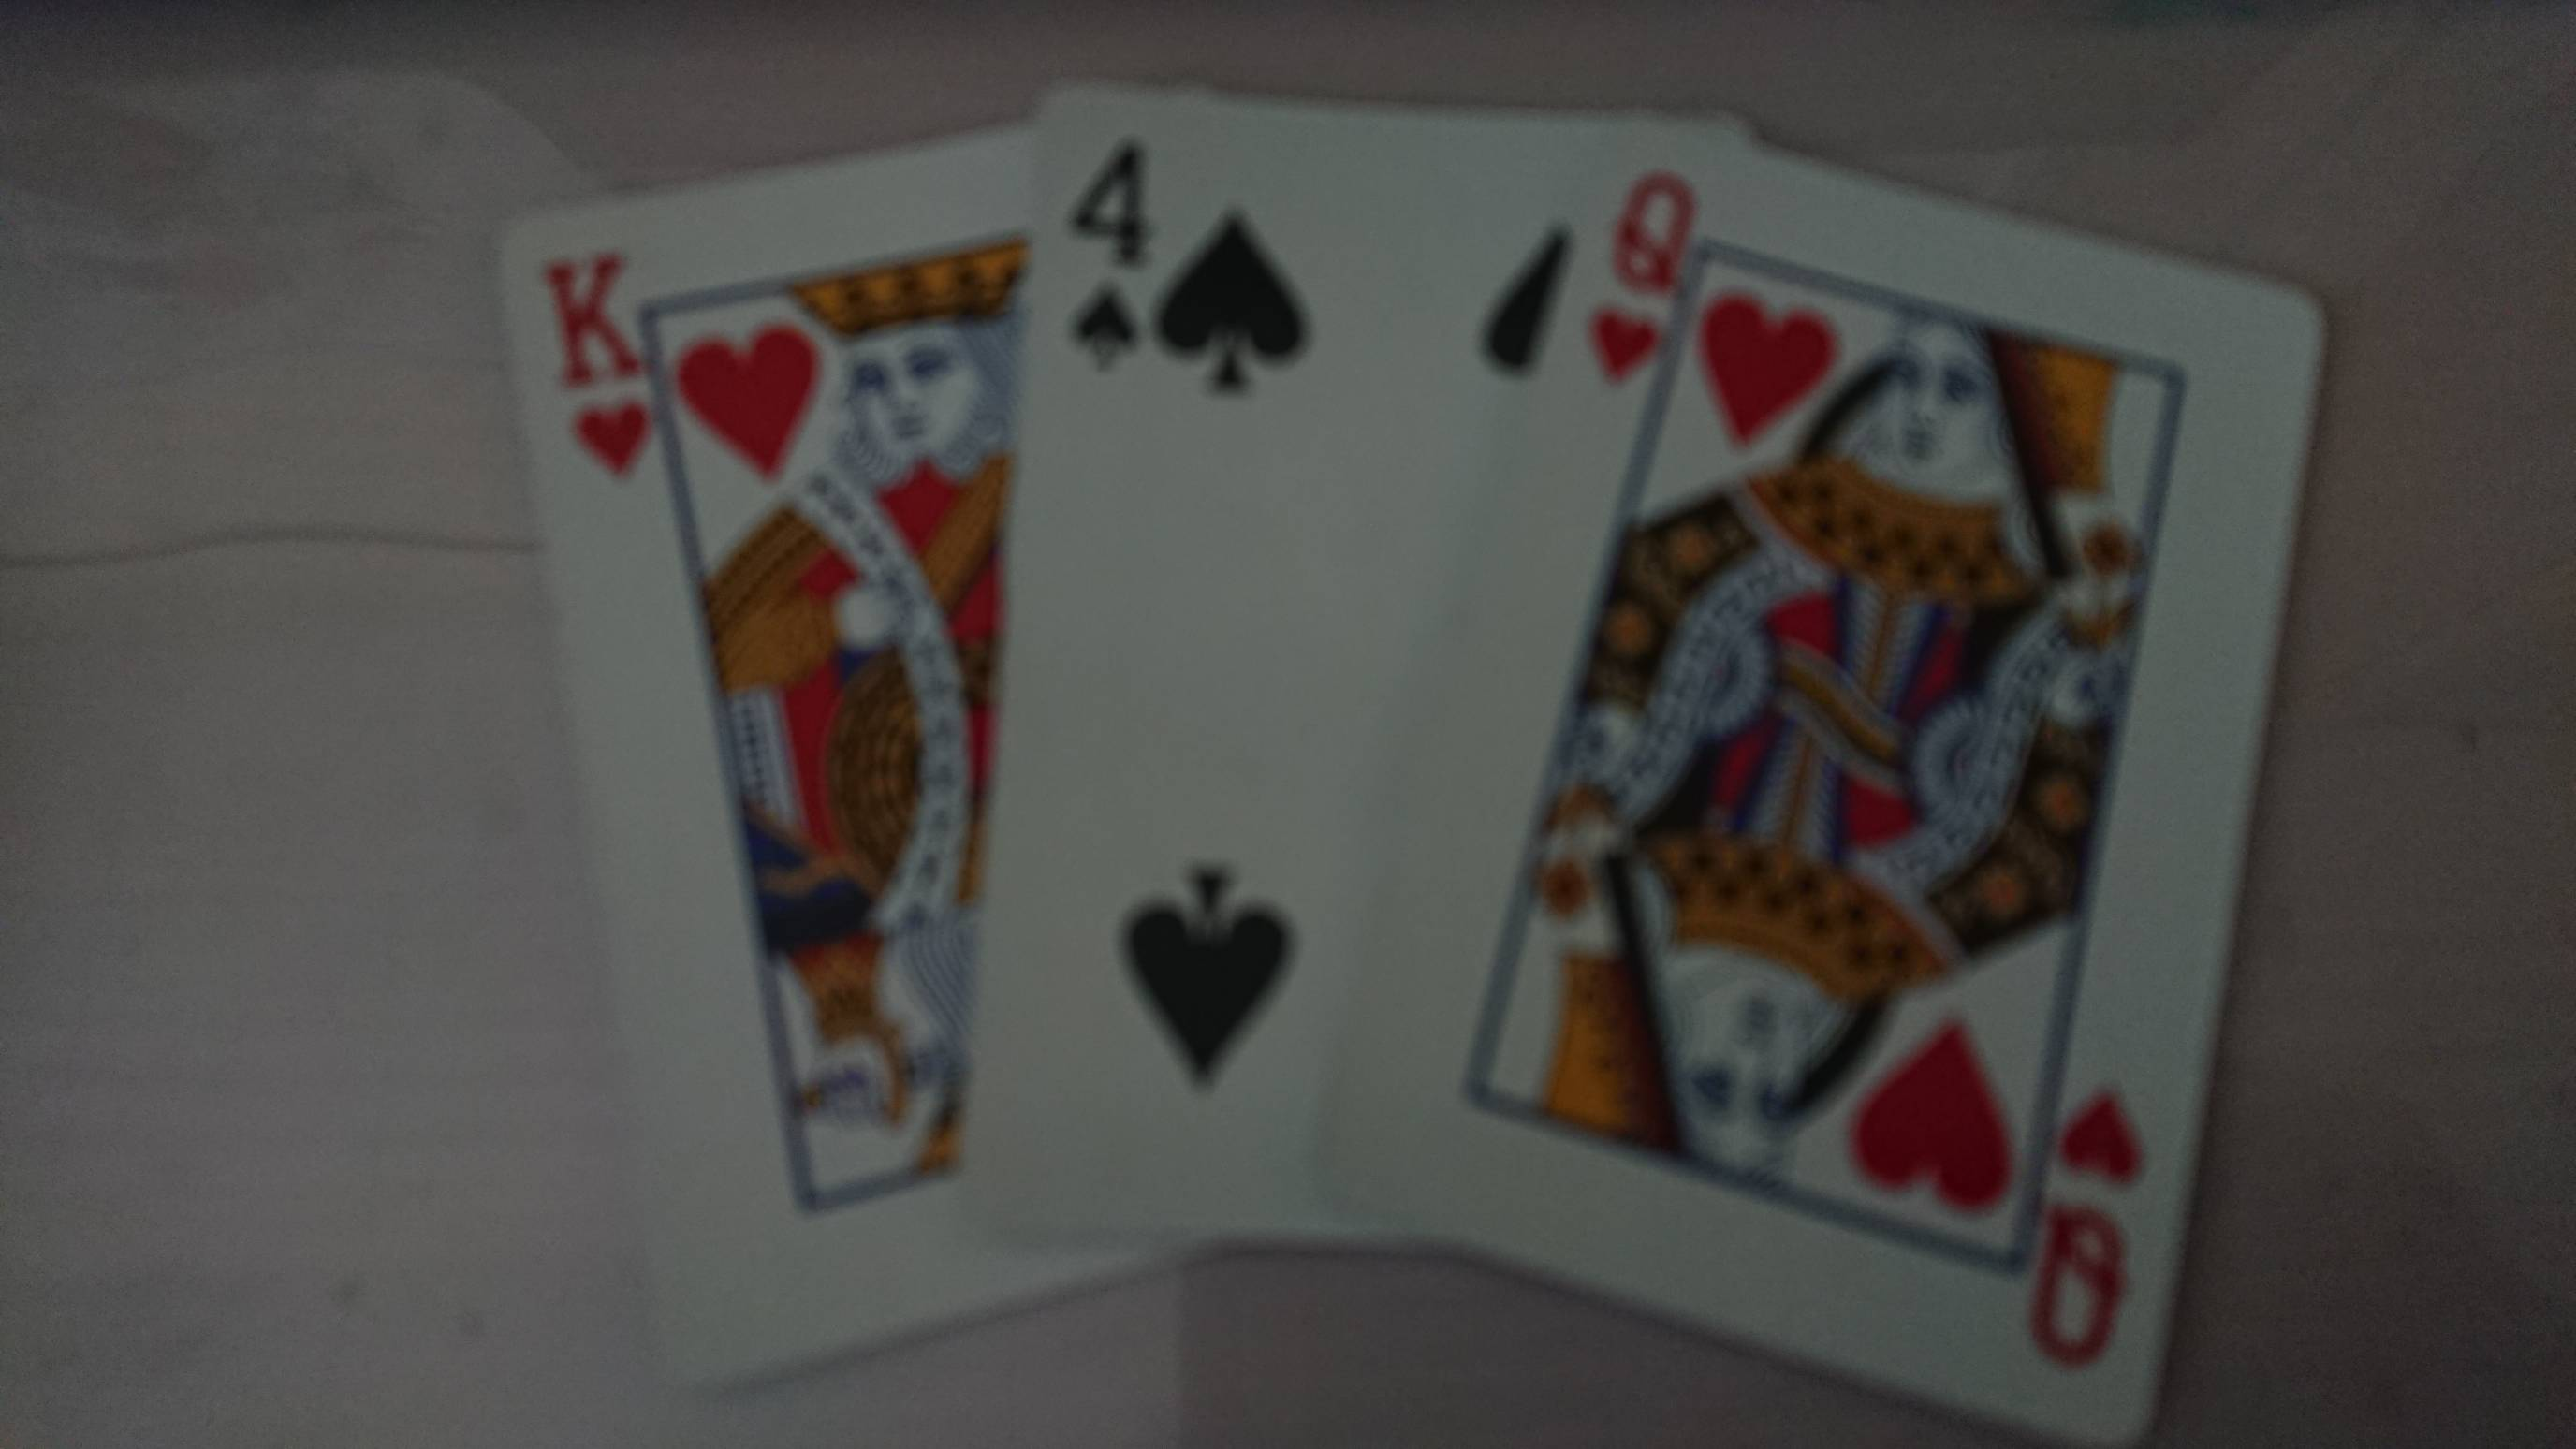4S: (1054, 131, 1157, 379)
KH: (531, 235, 671, 485)
QH: (1583, 165, 1698, 396)
